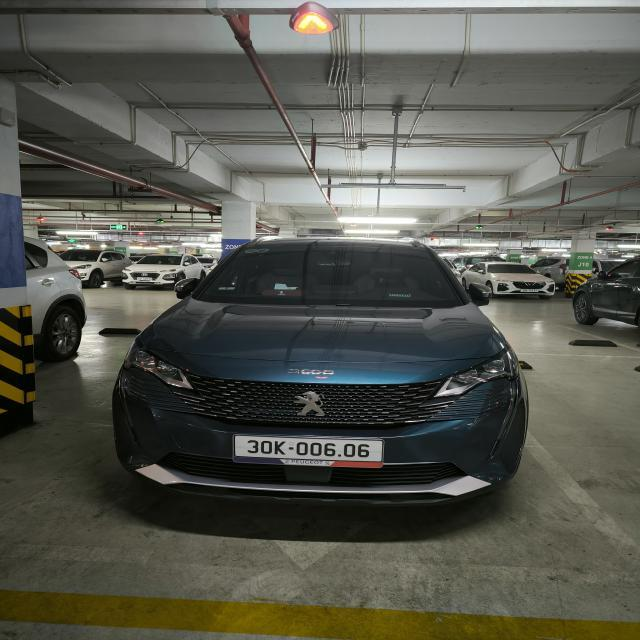license: (231, 434, 384, 468)
